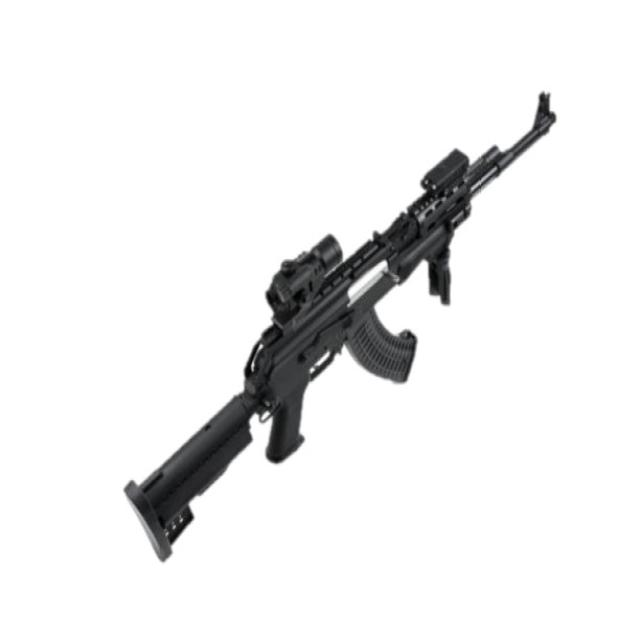rifle: (121, 81, 568, 574)
